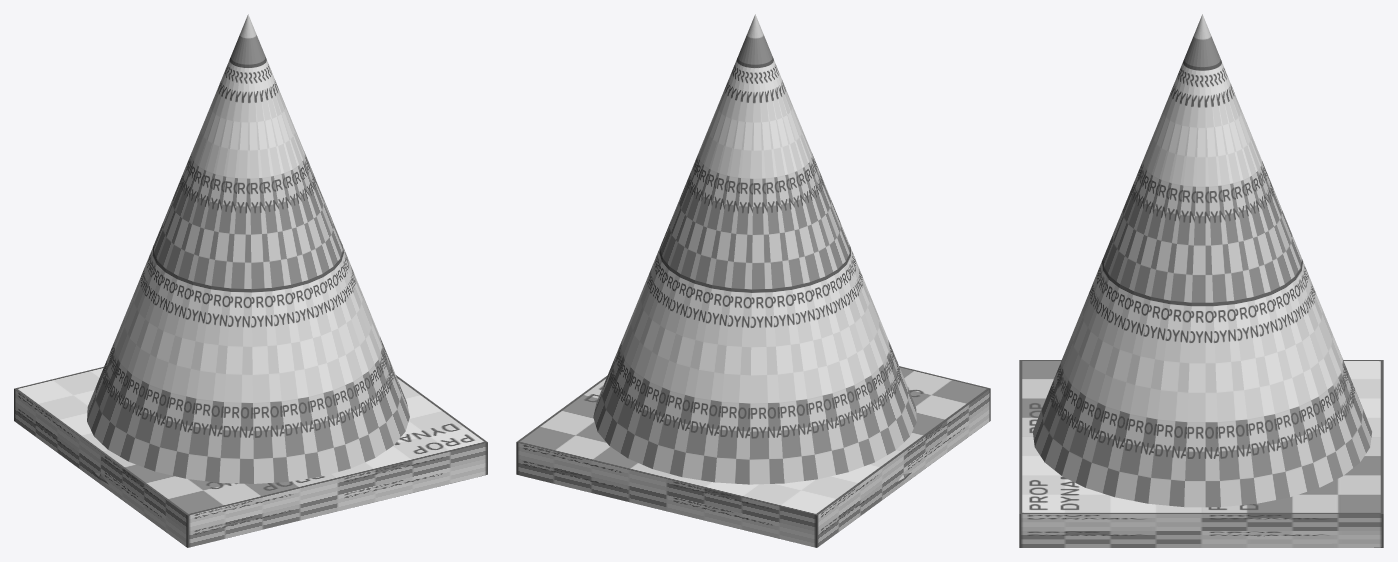
The picture shows the model from 3 angles, left to right: view 1: azimuth 30°, elevation 25°; view 2: azimuth 150°, elevation 25°; view 3: azimuth 270°, elevation 25°; orthographic projection. The views are drawn at different scales.
Parts seen in each view (by area): view 1: Cone, base; view 2: Cone, base; view 3: Cone, base.
Part boxes in pixels (x1,y1,x2,y2): Cone: (87, 14, 409, 484); base: (14, 366, 487, 547); Cone: (593, 14, 916, 484); base: (516, 366, 990, 547); Cone: (1033, 14, 1371, 507); base: (1019, 360, 1383, 547).
Bounding box in the file's own units: 101 × 138 × 100.
